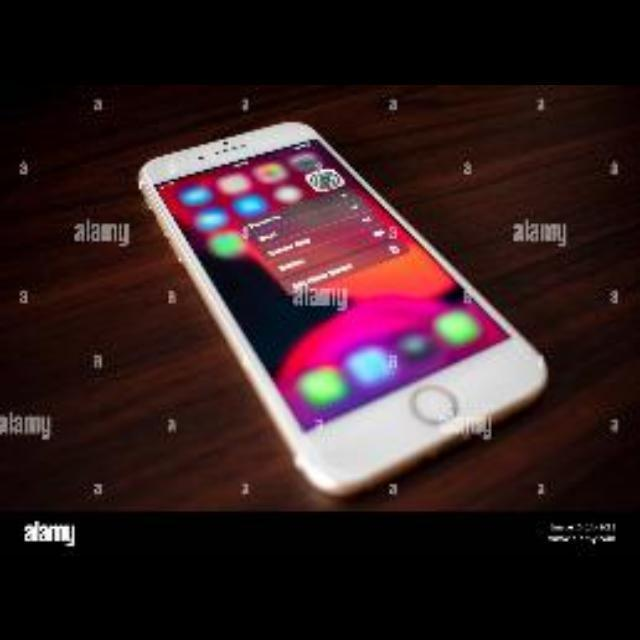PhoneUse: (142, 121, 548, 493)
